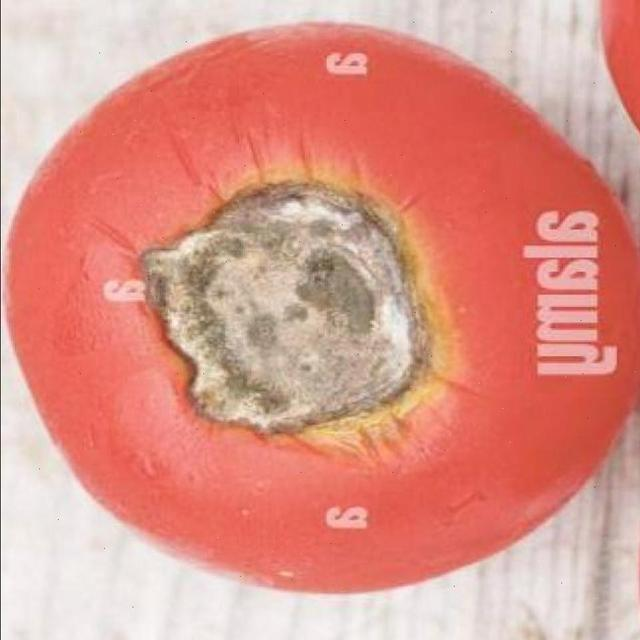Blossom End Rot Fruit: (87, 112, 288, 297)
